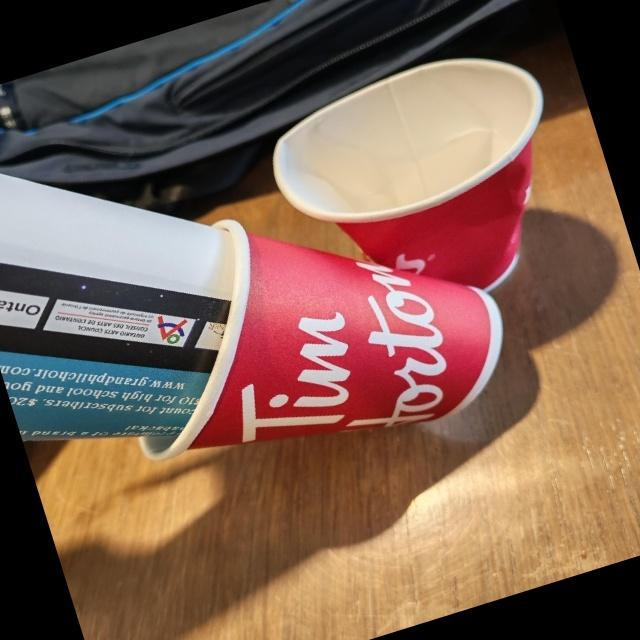timmies: (131, 217, 505, 464), (270, 39, 548, 299)
